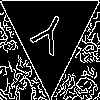Y: (25, 8, 70, 65)
